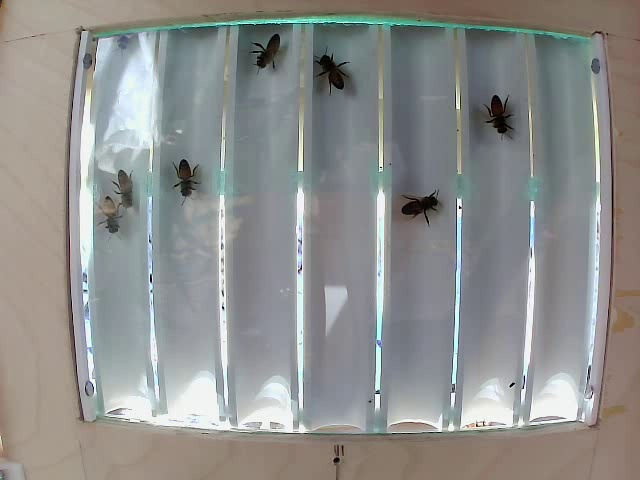bee: (310, 43, 352, 101), (477, 92, 519, 139), (401, 173, 433, 231), (171, 156, 207, 205), (258, 39, 293, 85), (95, 190, 126, 238), (111, 161, 134, 203)
